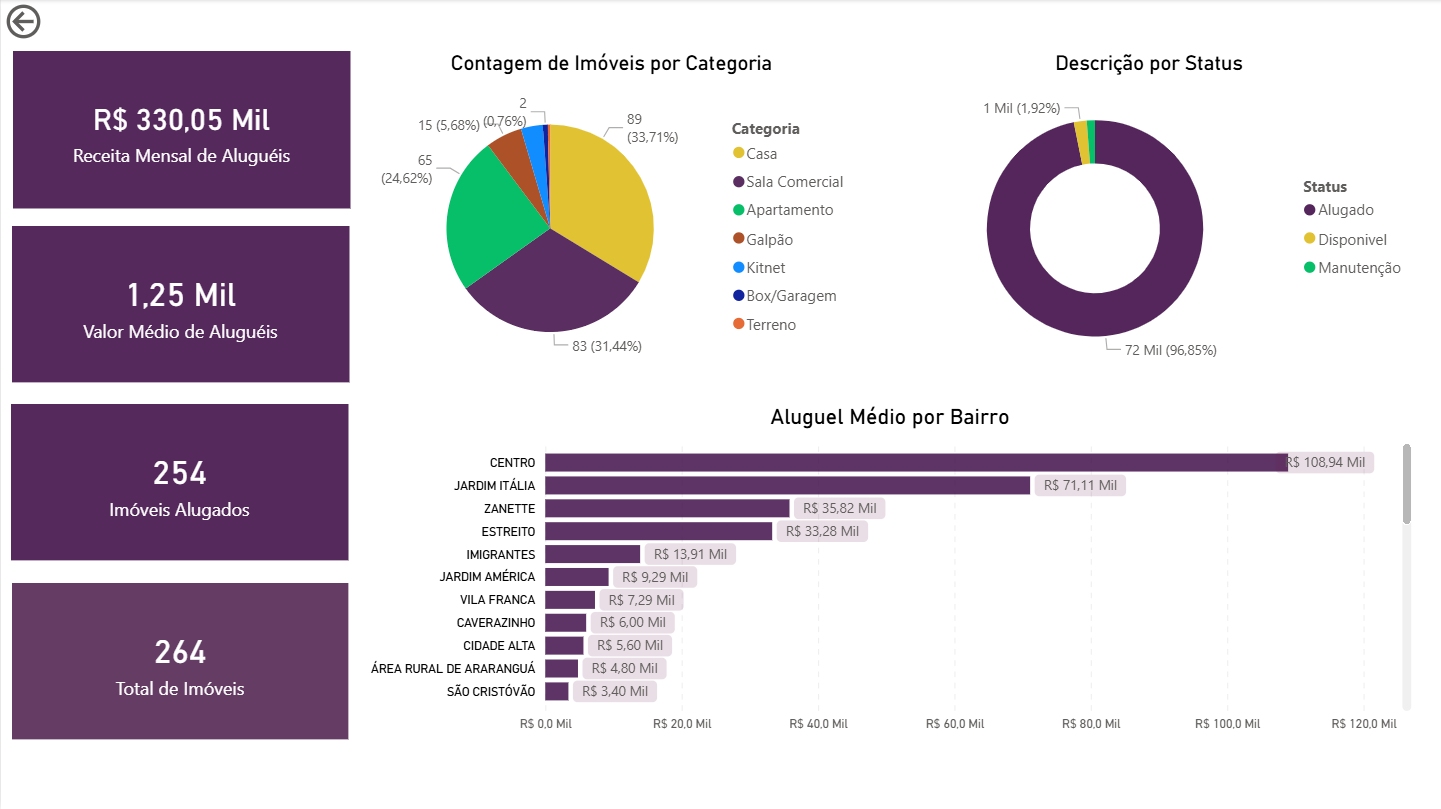

Layout of this report page (visuals, bound fields, positions):
{"tool":"powerbi","page":{"name":"Página 1","canvas":[1280,720],"ordinal":0},"visuals":[{"type":"card","fields":{"Values":["Sum(Sheet1.Valor Aluguel)"]},"box":[10.7,46.2,299.6,139.6],"z":0},{"type":"card","fields":{"Values":["Count(Sheet1.Código)"]},"box":[9.8,519.1,298.7,138.7],"z":1000},{"type":"card","fields":{"Values":["select","select1","Sheet1.Total Aluguéis"]},"box":[8.9,360,299.6,138.7],"z":2000},{"type":"card","fields":{"Values":["Sheet1.Media Aluguel"]},"box":[9.8,201.8,299.6,138.7],"z":3000},{"type":"pieChart","fields":{"Y":["CountNonNull(Sheet1.Código)"],"Category":["Sheet1.Categoria"]},"box":[321.8,46.2,441.8,294.2],"z":4000},{"type":"clusteredBarChart","fields":{"Category":["Sheet1.Bairro"],"Y":["Sum(Sheet1.Valor Aluguel)"]},"box":[321.8,360,936.9,297.8],"z":5000},{"type":"donutChart","fields":{"Y":["Sum(Sheet1.Código)"],"Category":["Sheet1.Status"]},"box":[782.2,46.2,476.4,294.2],"z":6000},{"type":"actionButton","box":[0,0,100,40],"z":7000}]}

Visuals, with their boxes in screenshot pixels (x1, y1, x2, y2), scaled from the page's 1280x720 canvas onto the 1441x809 screenshot:
card - Sum(Sheet1.Valor Aluguel): (12,52,349,209)
card - Count(Sheet1.Código): (11,583,347,739)
card - select x select1: (10,404,347,560)
card - Sheet1.Media Aluguel: (11,227,348,383)
pieChart - CountNonNull(Sheet1.Código) x Sheet1.Categoria: (362,52,860,382)
clusteredBarChart - Sheet1.Bairro x Sum(Sheet1.Valor Aluguel): (362,404,1417,739)
donutChart - Sum(Sheet1.Código) x Sheet1.Status: (881,52,1417,382)
actionButton: (0,0,113,45)
